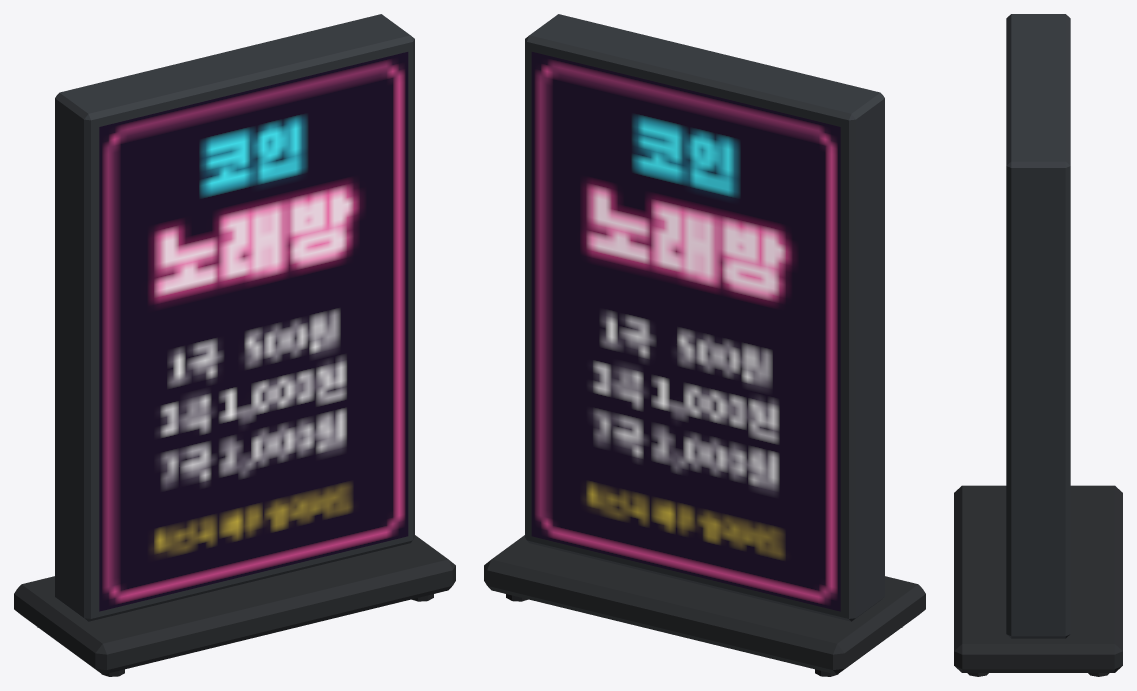
File: SC_Shop_Standing_Sign_Karaoke.gltf
3 renders of one model, left to right at view 1: azimuth 30°, elevation 25°; view 2: azimuth 150°, elevation 25°; view 3: azimuth 270°, elevation 25°, orthographic. The views are drawn at different scales.
Parts seen in each view (by area): view 1: SC_Shop_Standing_Sign_Karaoke; view 2: SC_Shop_Standing_Sign_Karaoke; view 3: SC_Shop_Standing_Sign_Karaoke.
Part boxes in pixels (x1,y1,x2,y2): SC_Shop_Standing_Sign_Karaoke: (14,14,455,676); SC_Shop_Standing_Sign_Karaoke: (484,14,925,676); SC_Shop_Standing_Sign_Karaoke: (954,14,1122,676).
Size of the model in its own units: 0.9733 by 1.41 by 0.42.
2 materials, 2 textured.
